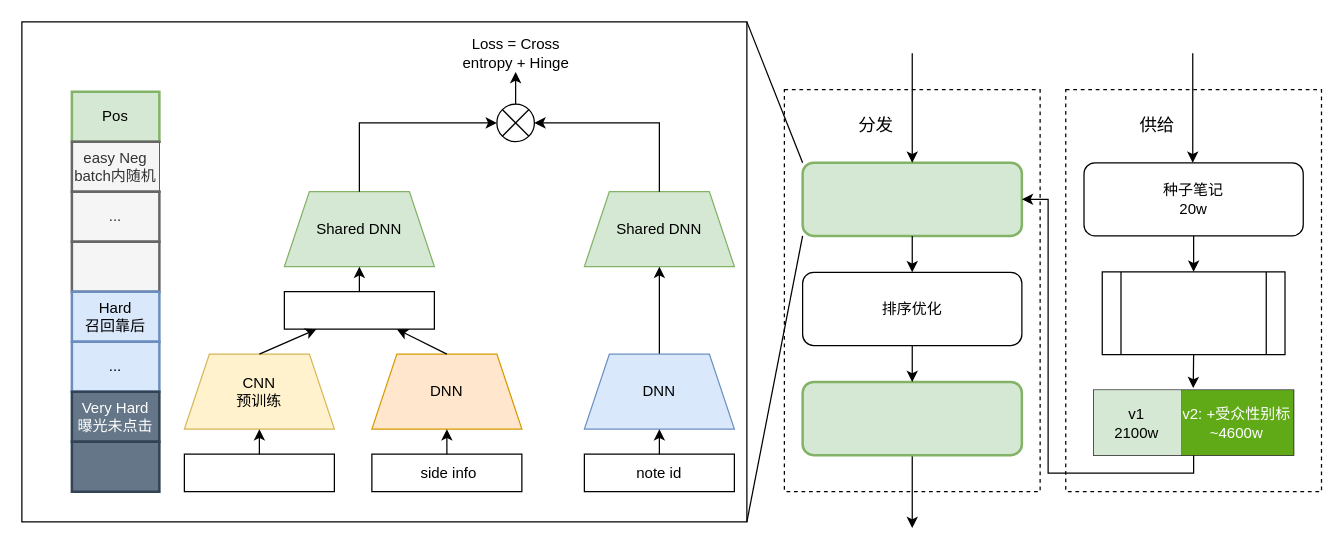
Image size: 1344x560. Some labels were removed from this diagram. Here are the shapes that lost their labels. From the top down, the box of each, then its label:
(801, 161, 1022, 236): 召回策略+模型
(283, 290, 434, 329): concat
(1101, 271, 1285, 355): 挖掘算法 lpa、PageRank、Swing
(801, 380, 1022, 456): postrank保送策略
(183, 453, 334, 492): query
